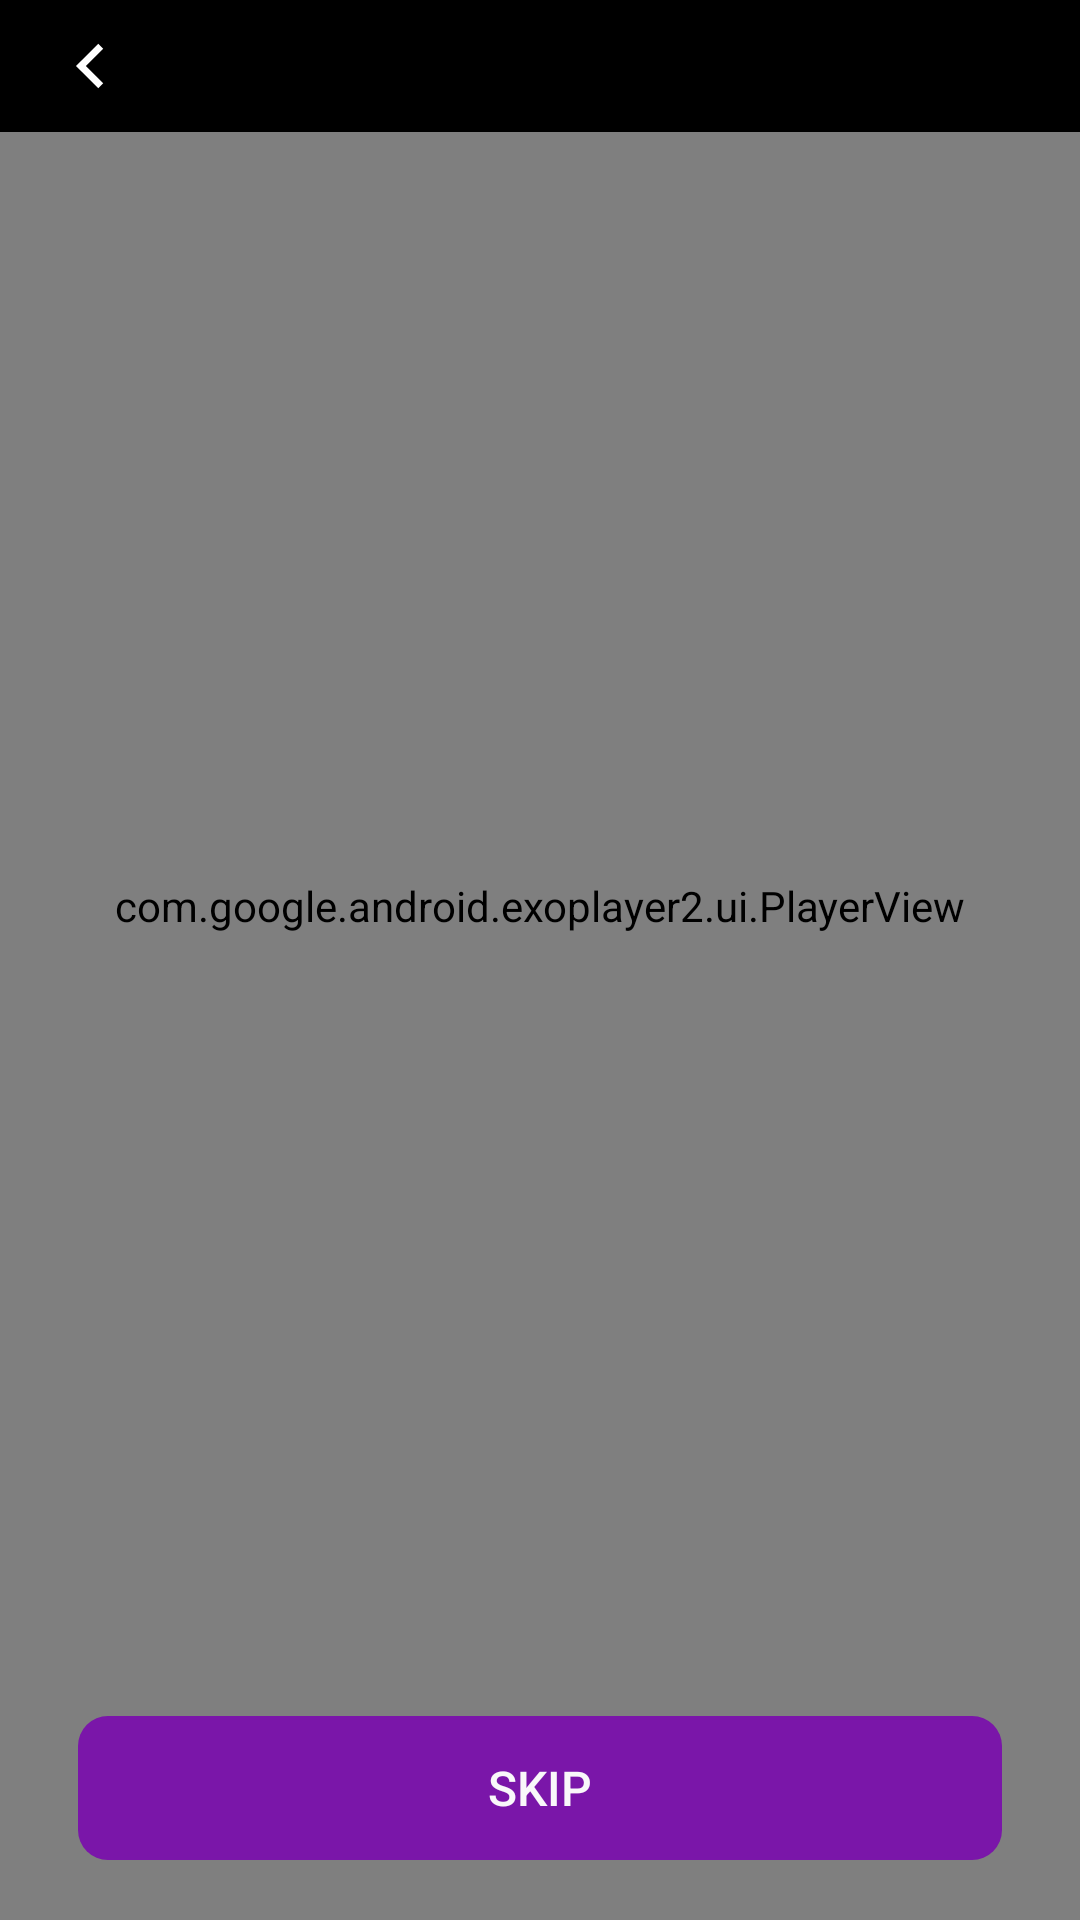

Locate icon controls on the screen. Image size 1080*1920, boxes as (x1, y1, x2, y2).
arrow: (76, 44, 103, 88)
